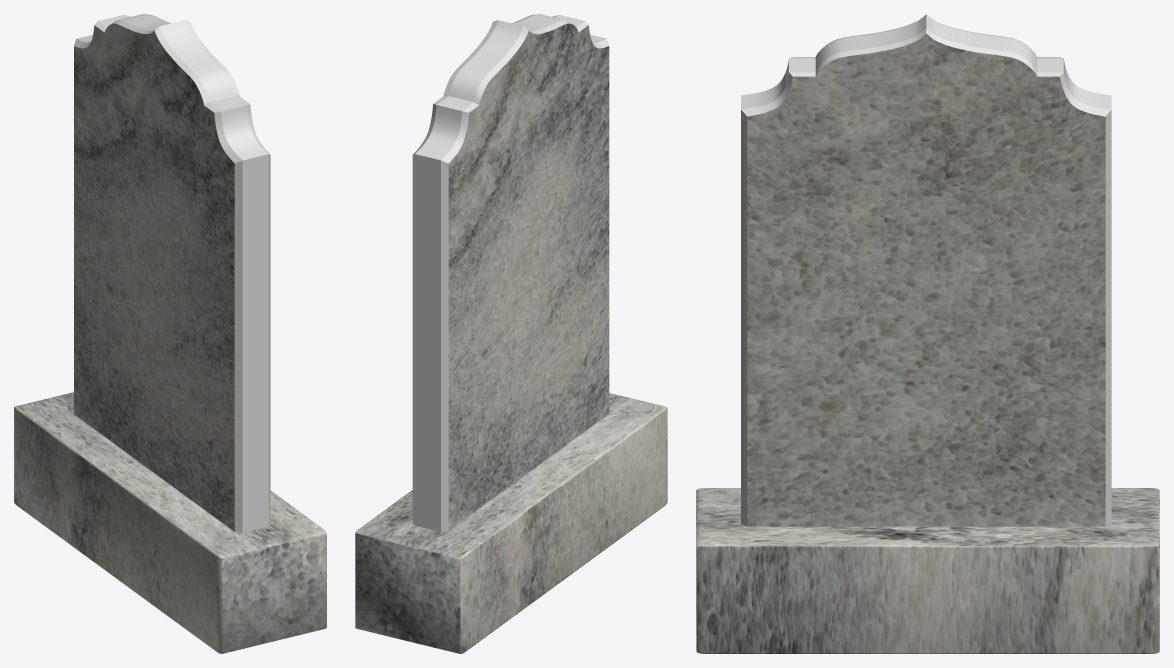
Rendered from Памятник Полевской [marble_u_u] (60).glb.
The picture shows the model from 3 angles, left to right: view 1: azimuth 30°, elevation 25°; view 2: azimuth 150°, elevation 25°; view 3: azimuth 270°, elevation 25°; orthographic projection. The views are drawn at different scales.
Visible parts, largest first — view 1: Cube.046; view 2: Cube.046; view 3: Cube.046.
Part boxes in pixels (left/top/right/bottom): Cube.046: left=14, top=14, right=326, bottom=653; Cube.046: left=355, top=14, right=667, bottom=653; Cube.046: left=696, top=14, right=1159, bottom=653.
Bounding box in the file's own units: 0.15 × 0.7208 × 0.5.
2 materials, 1 textured.
